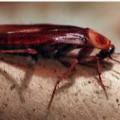cockroach: (0, 22, 116, 68)
